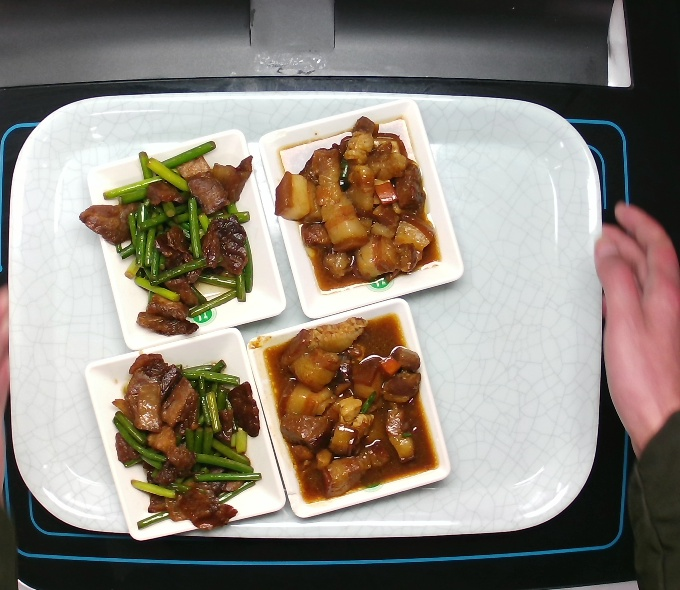wcq-HongShaoRou: (260, 308, 438, 513), (273, 112, 452, 291)
wcq-SuanMiaoChaoRou: (85, 140, 266, 338), (106, 350, 271, 532)
